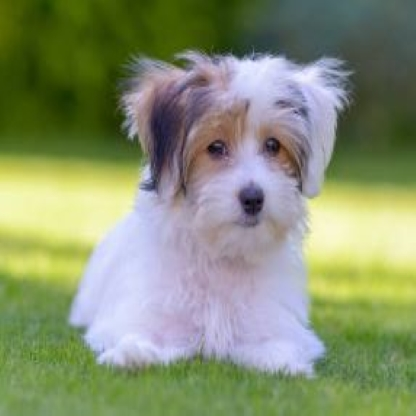maltese: (73, 46, 342, 380)
